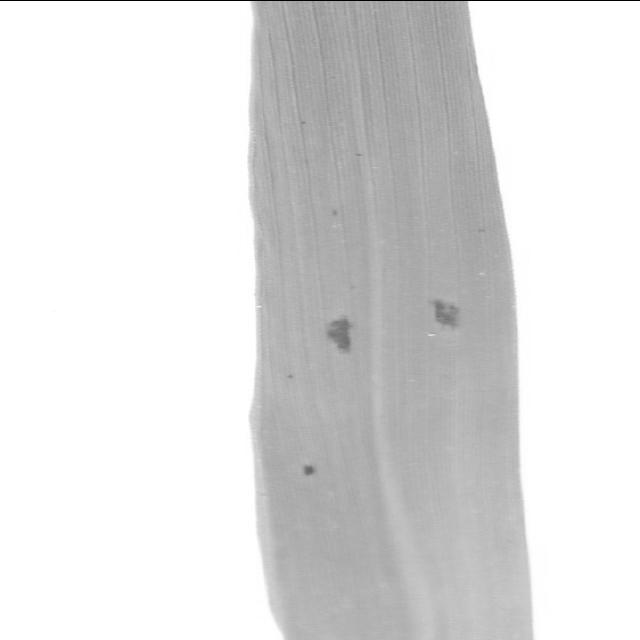Brown_Spot: (290, 294, 390, 360), (417, 278, 475, 332), (284, 448, 340, 486)
